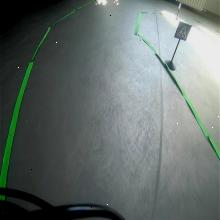crosswalk: (173, 21, 192, 41)
